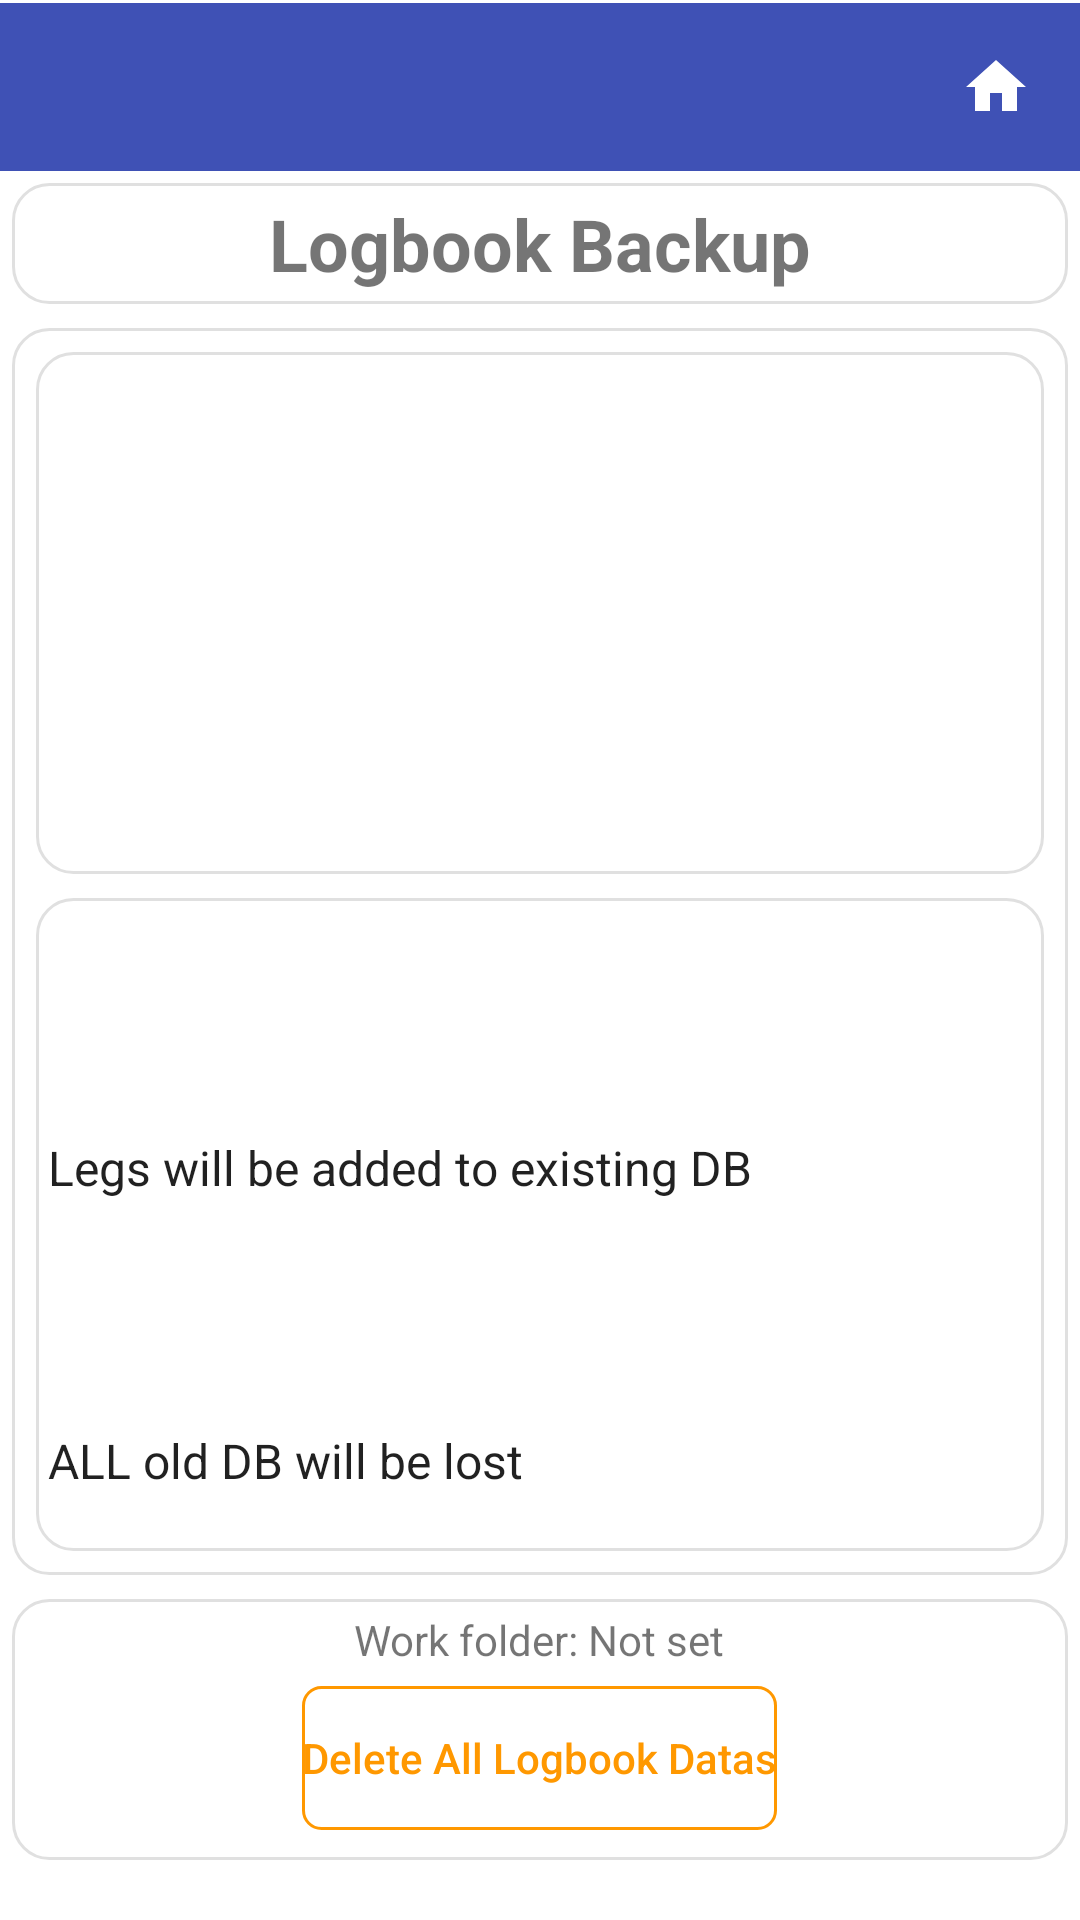

Where icons sit on this 1080×1920 app screen, as (x1, y1, x2, y2):
Home: (966, 60, 1026, 111)
